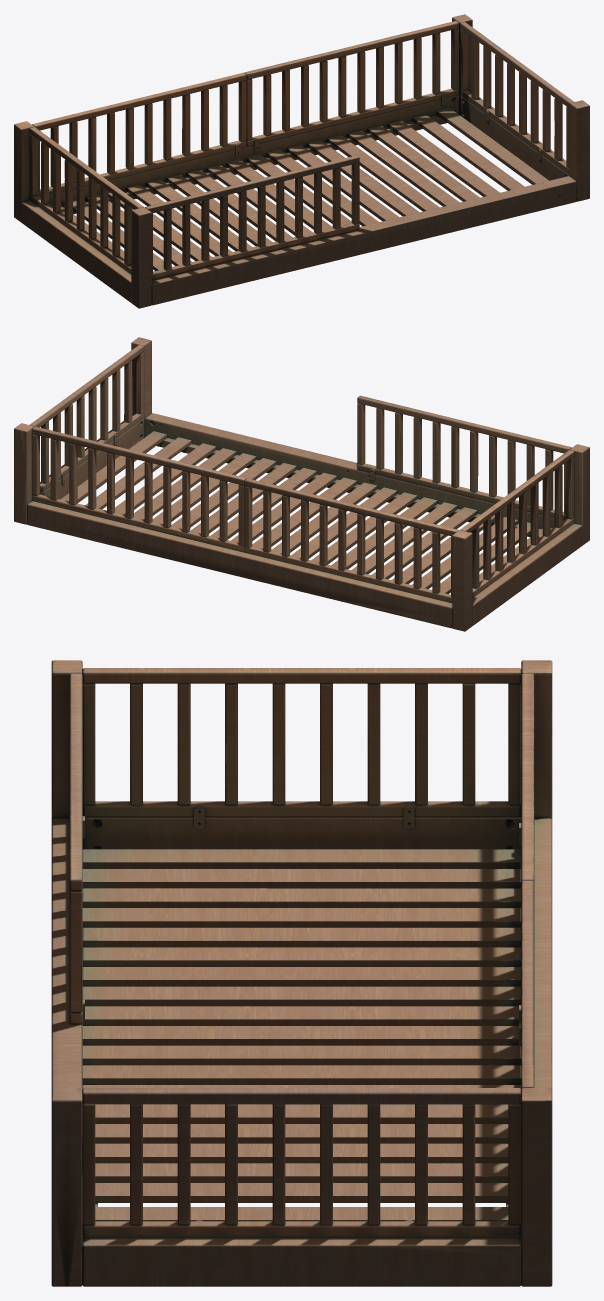
Rendered from earth-190x80.glb.
3 views of the same model, one above another, from view 1: azimuth 30°, elevation 25°; view 2: azimuth 150°, elevation 25°; view 3: azimuth 270°, elevation 25° (orthographic). The views are drawn at different scales.
Visible parts, largest first — view 1: Mesh_293.002; view 2: Mesh_293.002; view 3: Mesh_293.002.
Boxes of the visible parts, box(x1,y1,x2,y2) form: Mesh_293.002: box(14, 14, 589, 308); Mesh_293.002: box(14, 337, 589, 631); Mesh_293.002: box(51, 660, 552, 1286).
Bounding box in the file's own units: 2.02 × 0.4 × 0.97.
1 material, 1 textured.
